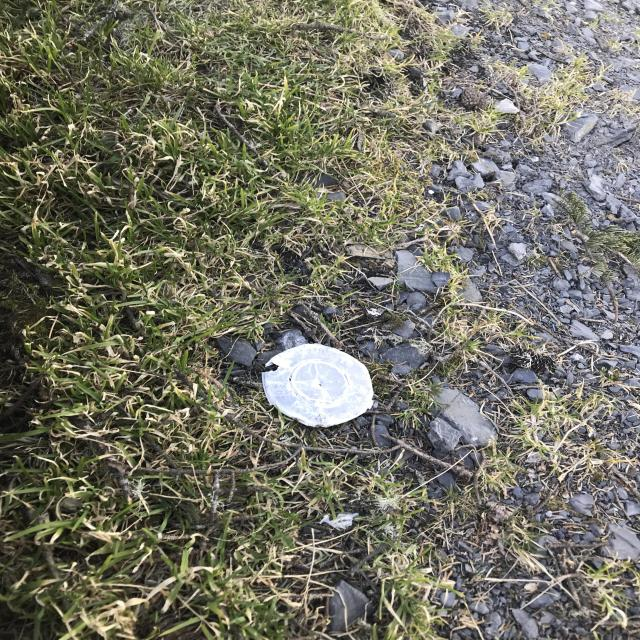Plastic lid: (262, 343, 374, 427)
Unlabeled litter: (320, 513, 359, 528)
